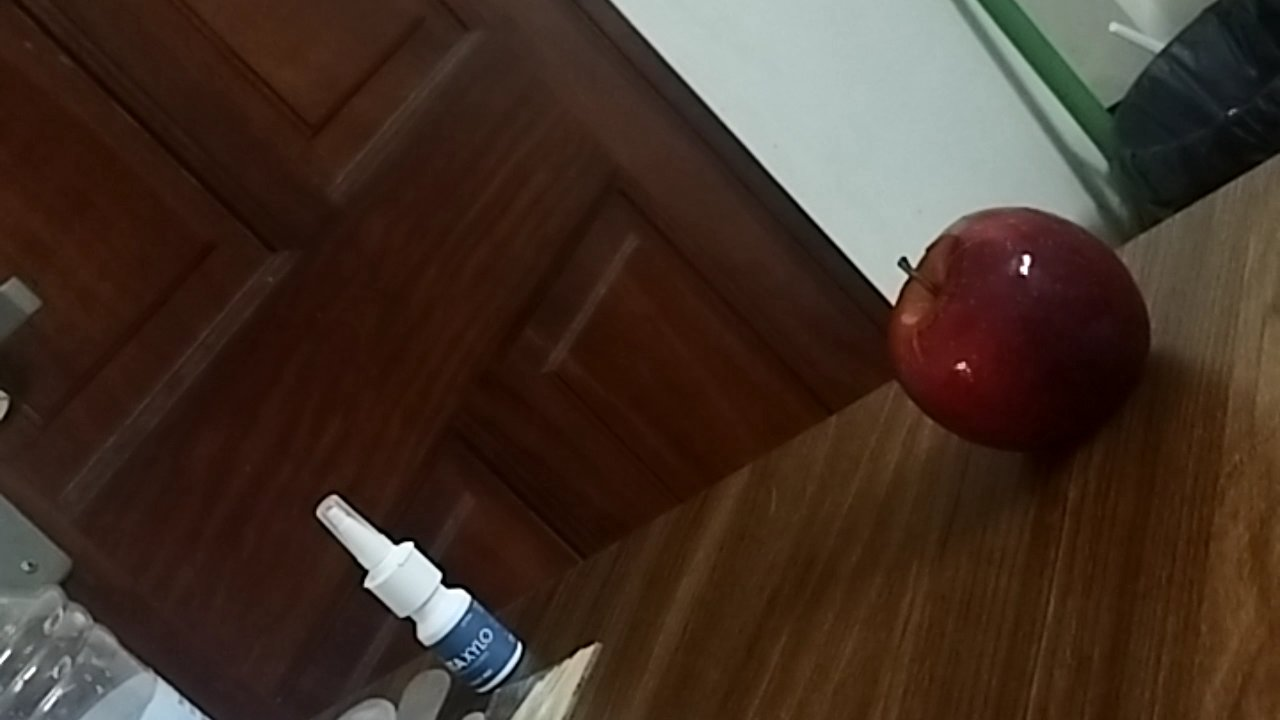apple_rotten: (882, 205, 1150, 456)
